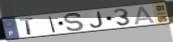3: (114, 8, 132, 27)
A: (135, 6, 158, 26)
I: (48, 15, 57, 33)
J: (90, 11, 105, 28)
S: (63, 12, 85, 32)
T: (19, 17, 36, 36)
